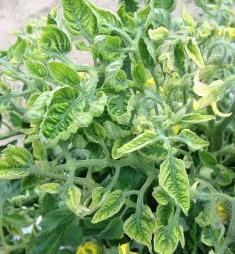Tomato leaf mosaic virus: (157, 155, 192, 215), (57, 0, 100, 42), (41, 100, 79, 139), (39, 25, 70, 57), (47, 63, 84, 87)
